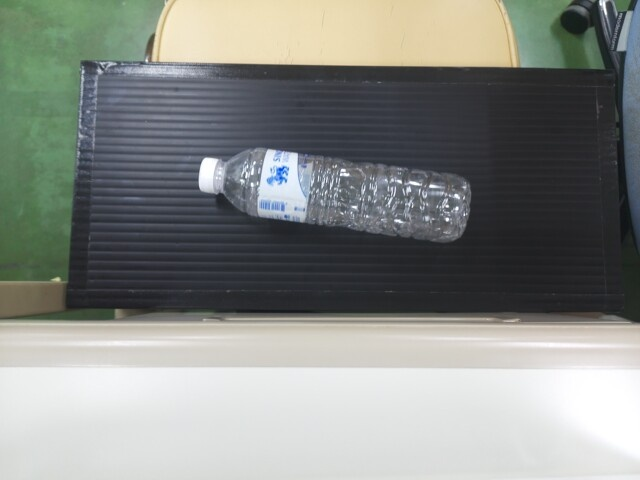plastic_bottle: (192, 147, 468, 240)
